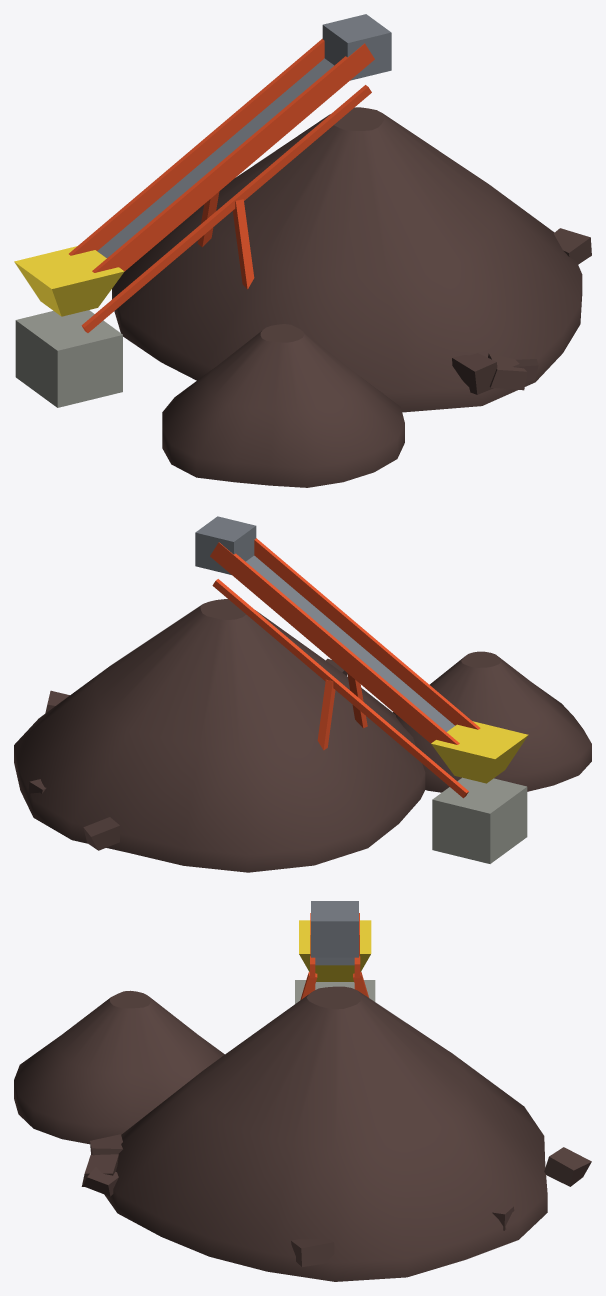
The model's file is mashup-stockpile-mid-prebuilt.fbx.
3 renders of one model, top to bottom at view 1: azimuth 30°, elevation 25°; view 2: azimuth 150°, elevation 25°; view 3: azimuth 270°, elevation 25°, orthographic. The views are drawn at different scales.
Parts seen in each view (by area): view 1: a1022.Stockpile; view 2: a1022.Stockpile; view 3: a1022.Stockpile.
Part boxes in pixels (left/top/right/bottom): a1022.Stockpile: left=14, top=14, right=591, bottom=487; a1022.Stockpile: left=14, top=516, right=591, bottom=872; a1022.Stockpile: left=14, top=901, right=591, bottom=1281.
Size of the model in its own units: 14.88 by 7.5 by 14.42.
